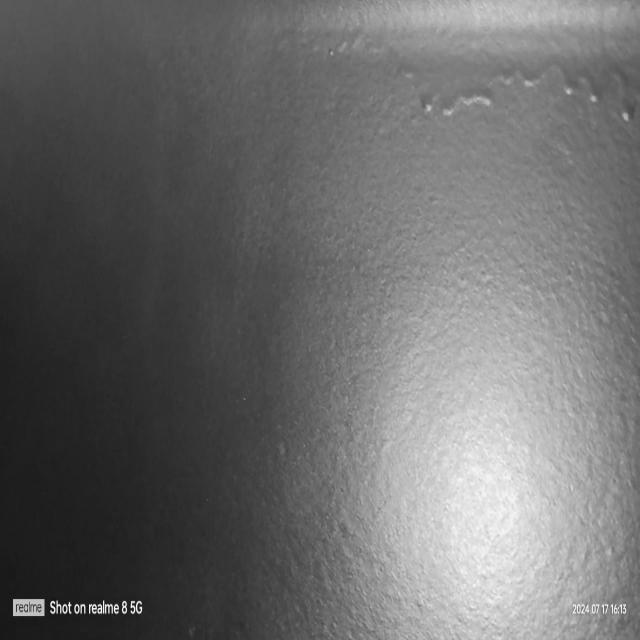paint drips: (389, 43, 640, 154)
